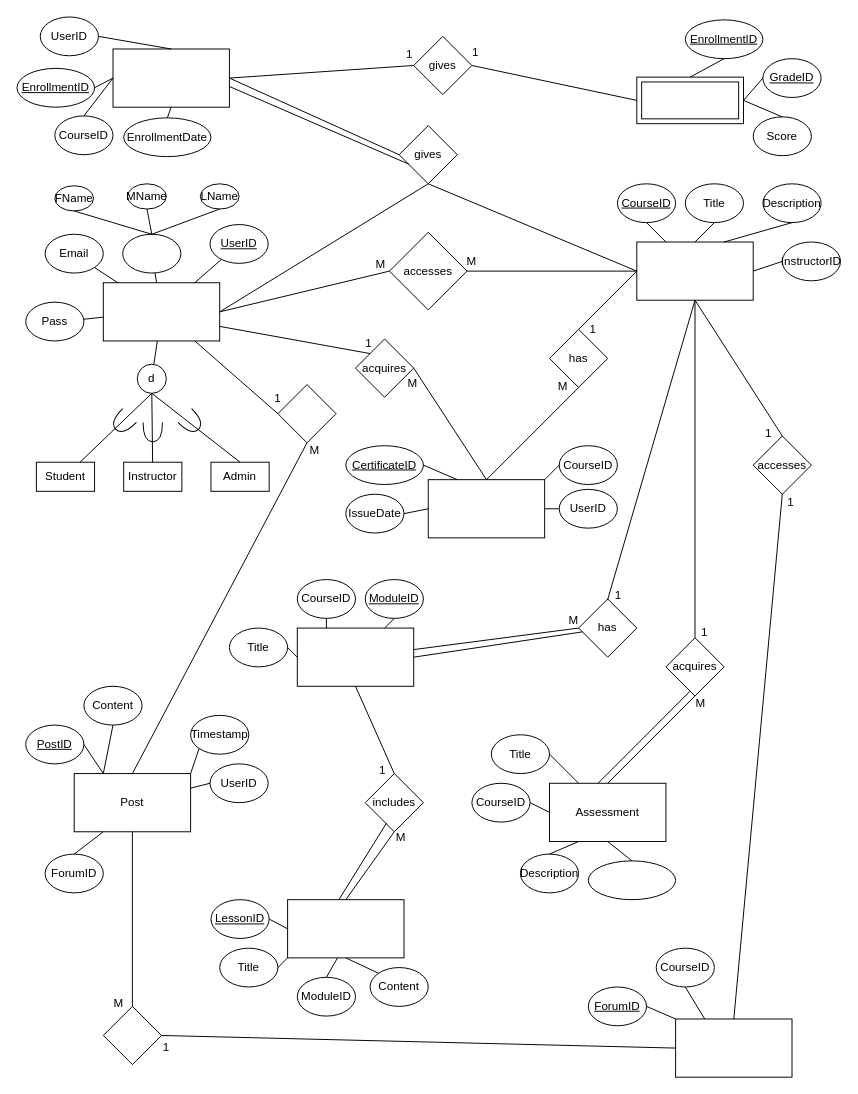
Some shapes in this 858 by 1094 pixel diagram are drawn without their labels. Here are the shapes that lost their labels. From the top down, the box of each, then its label:
(112, 48, 229, 107): Enrollment
(636, 76, 744, 124): Grade
(122, 233, 181, 273): Name
(636, 241, 753, 300): Course
(102, 282, 220, 341): User
(277, 384, 336, 443): writes
(427, 479, 545, 538): Certificate
(296, 627, 414, 686): Module
(587, 860, 676, 900): AssessmentID
(287, 899, 404, 958): Lesson
(102, 1005, 162, 1065): have
(675, 1018, 792, 1077): Forum
